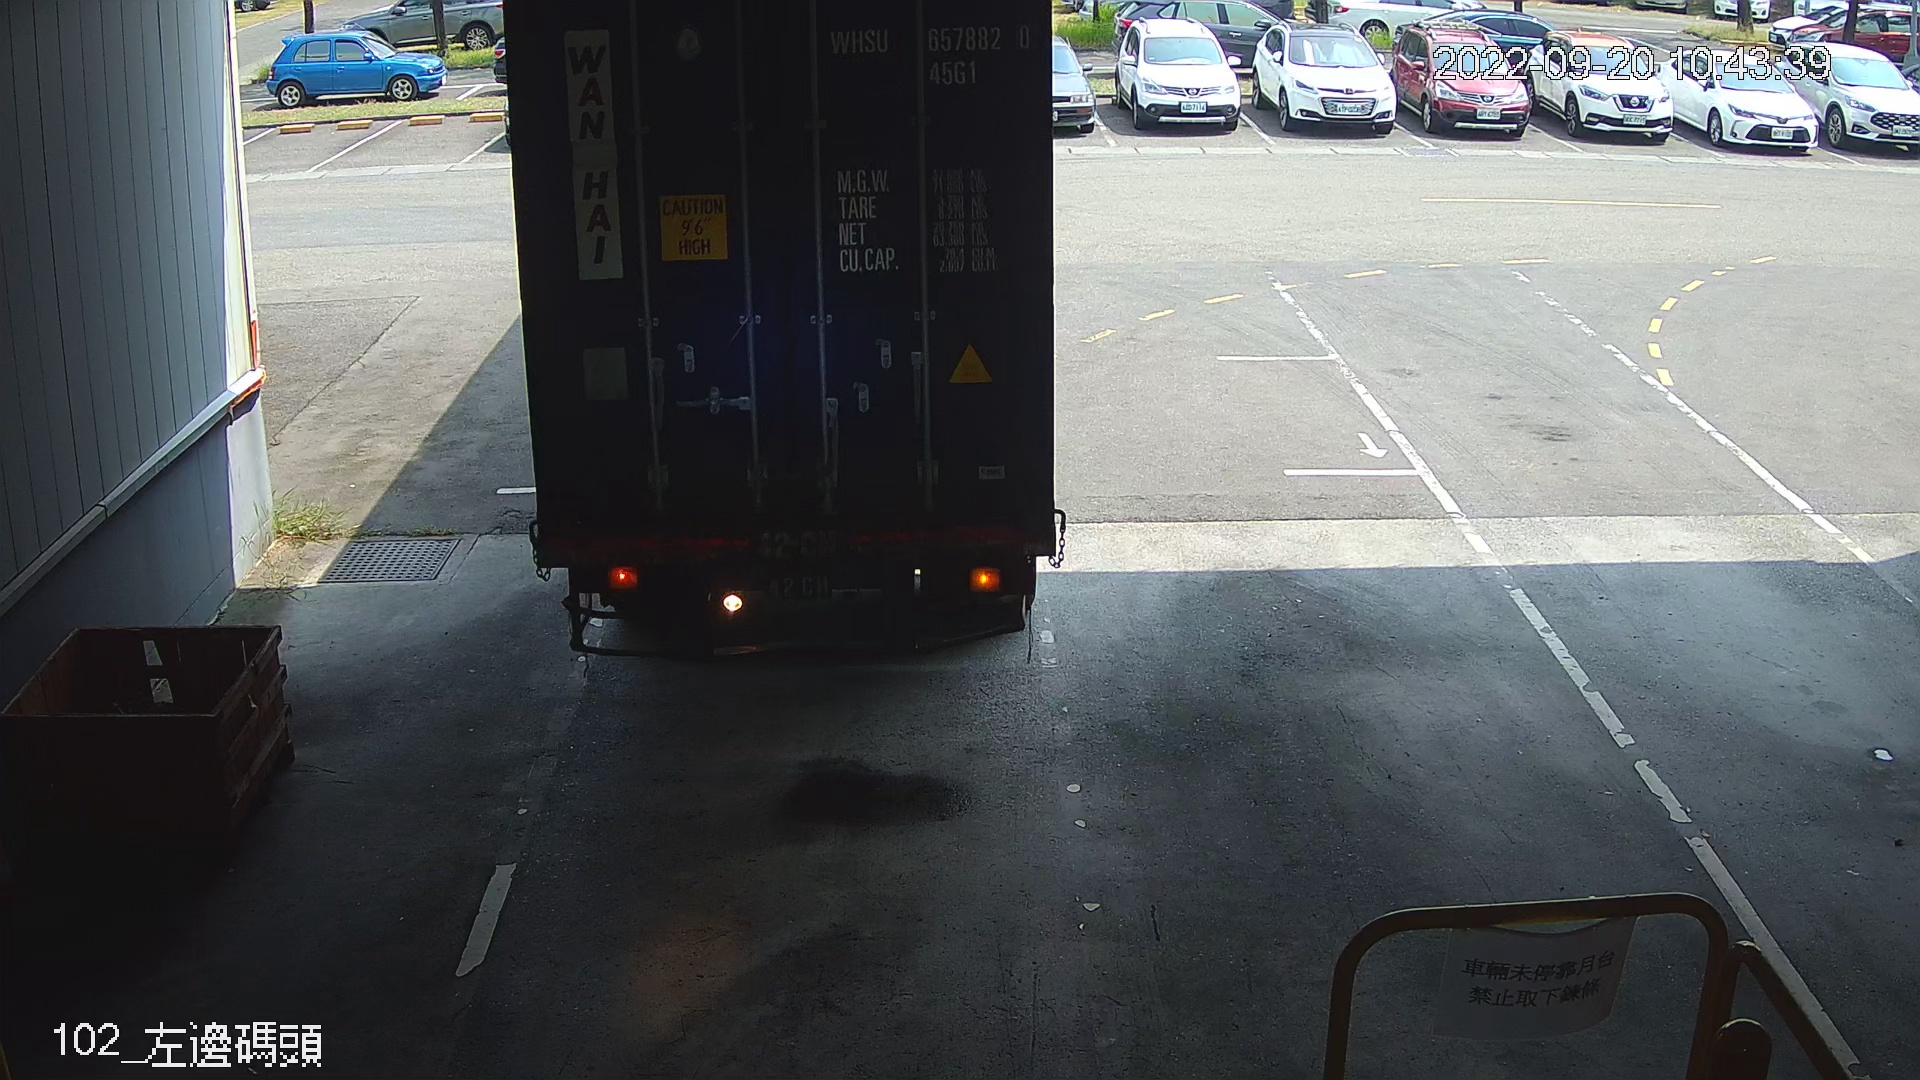container: (823, 17, 1038, 92)
